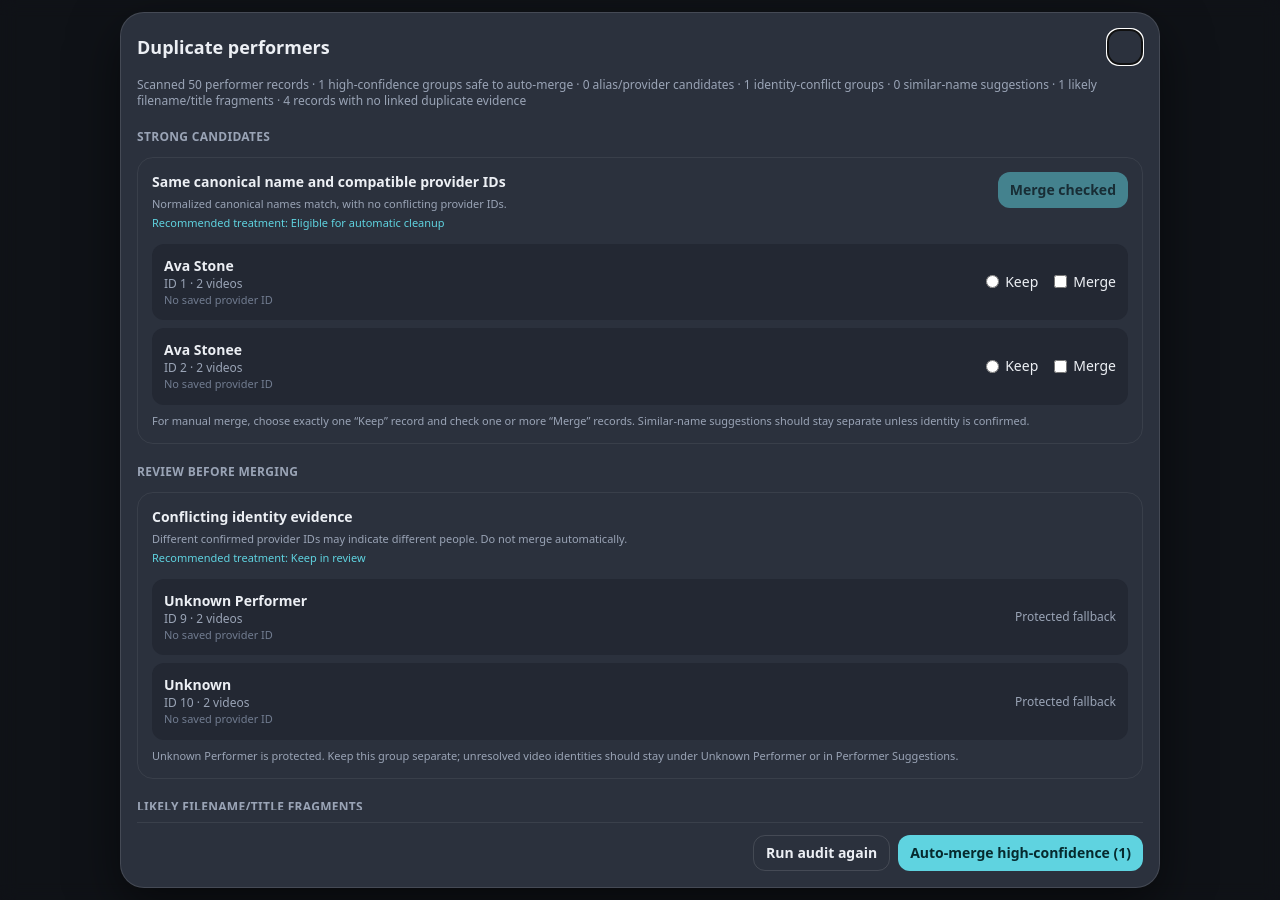
Test: Duplicate performers: merging one group › merges in one request, then reviews again so the group is gone
Expected: the text "Scanned 50 performer records" is shown, [137,77,1097,109]
Click the radio button with aria-label "Keep Ava Stone" at (993, 282), box [986,275,999,288]
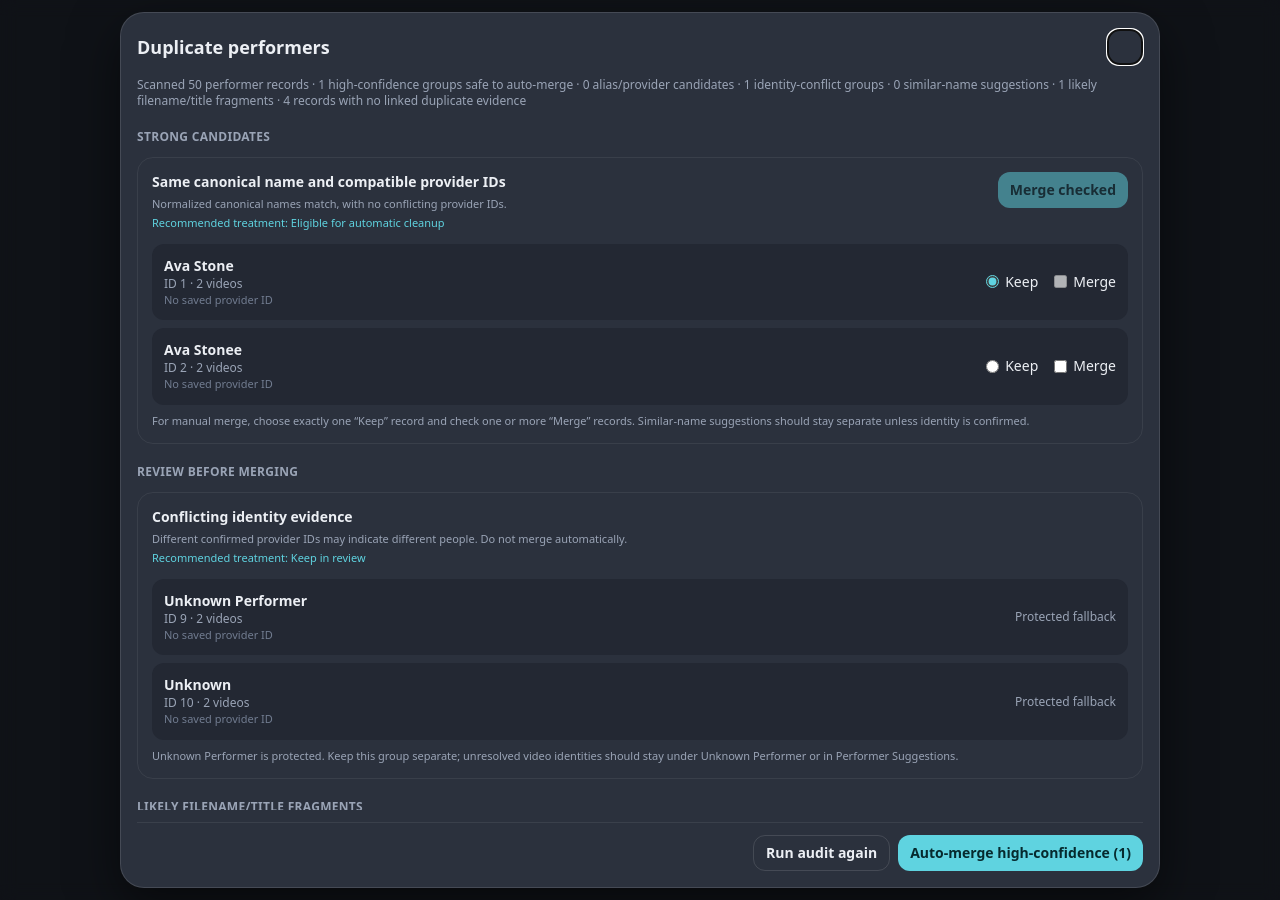
Click the checkbox named "Merge Ava Stonee" at (1061, 366), box [1054,360,1067,373]
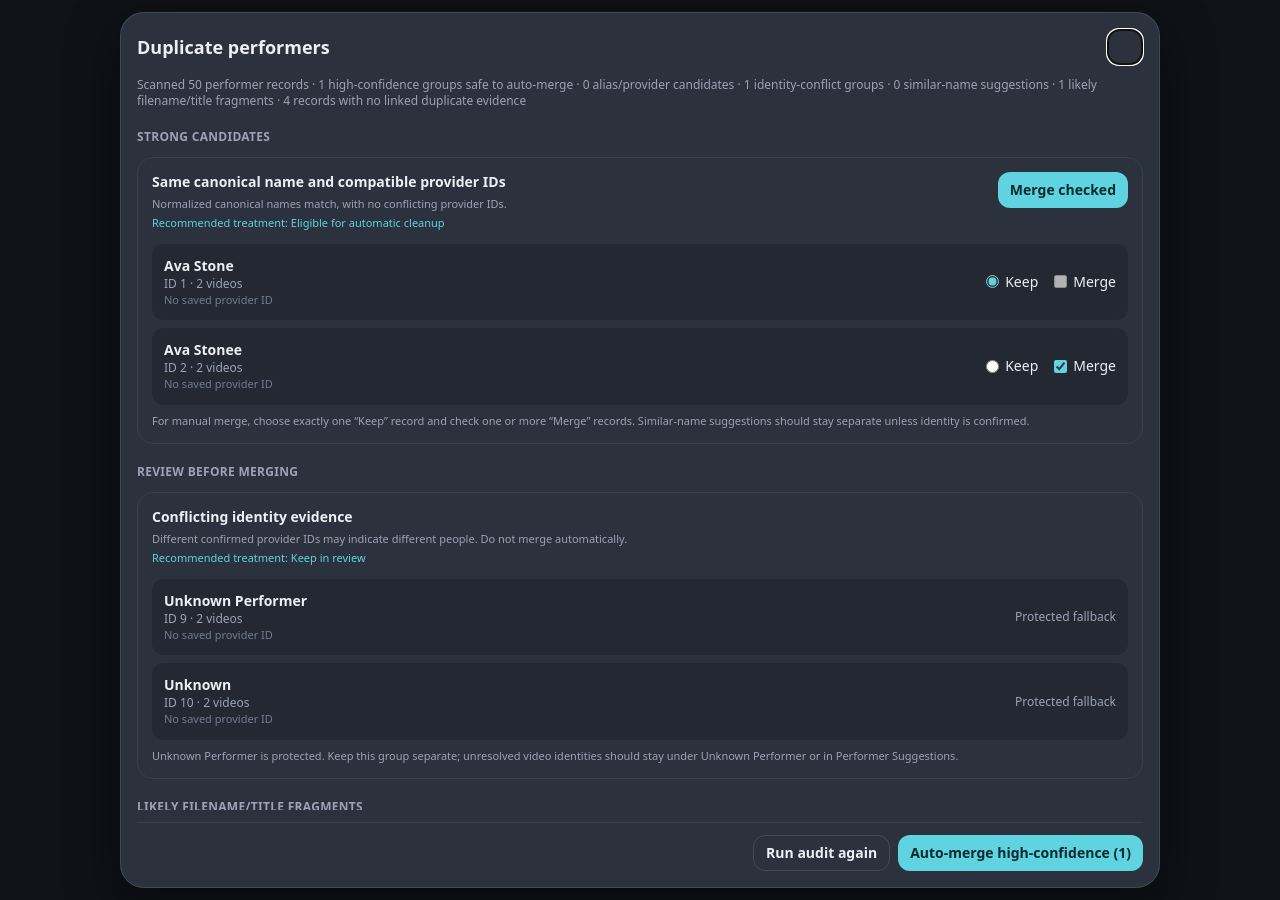
Click the button "Merge checked" at (1063, 190), box [998,172,1128,208]
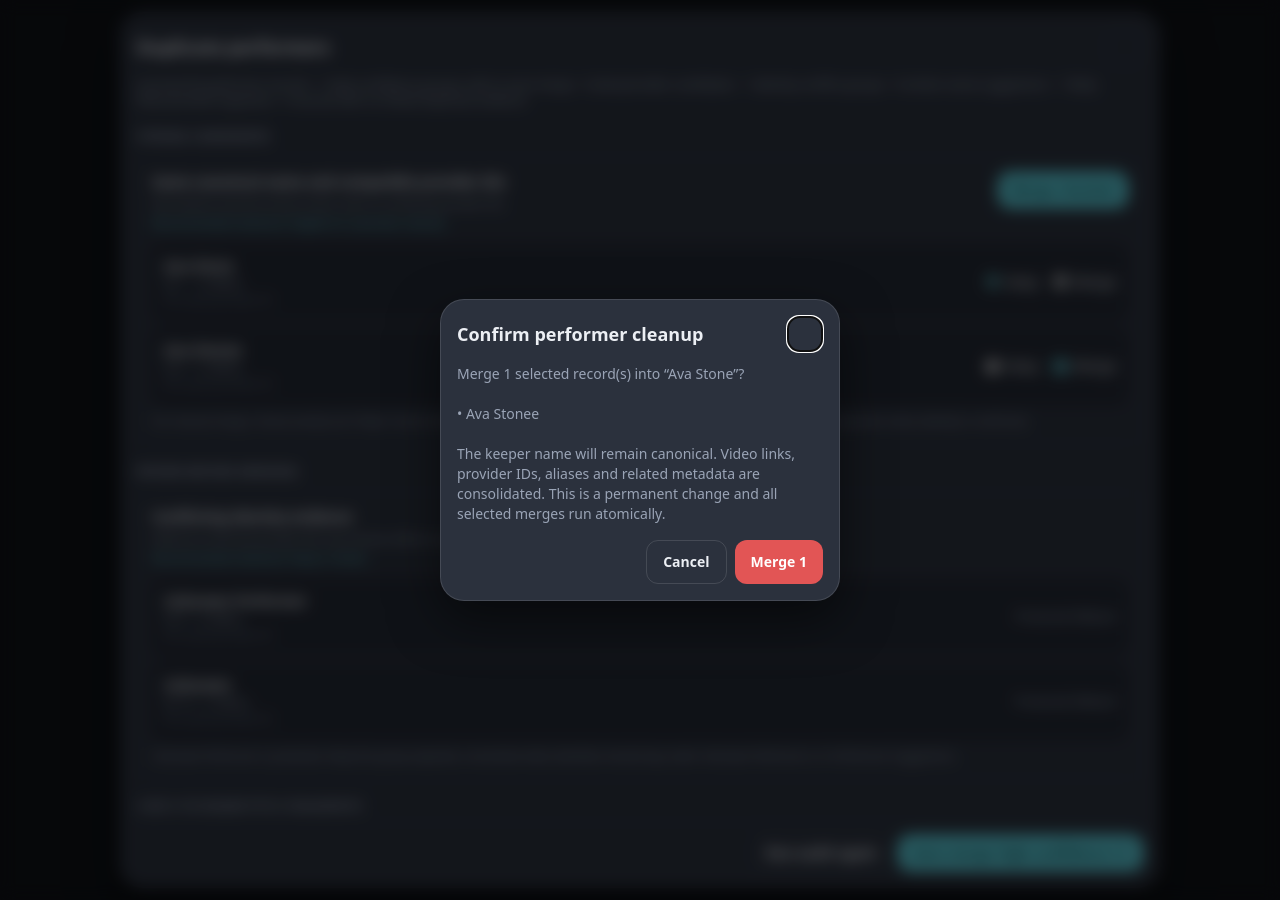
Click the button "Merge 1" at (779, 562), box [734,540,823,584]
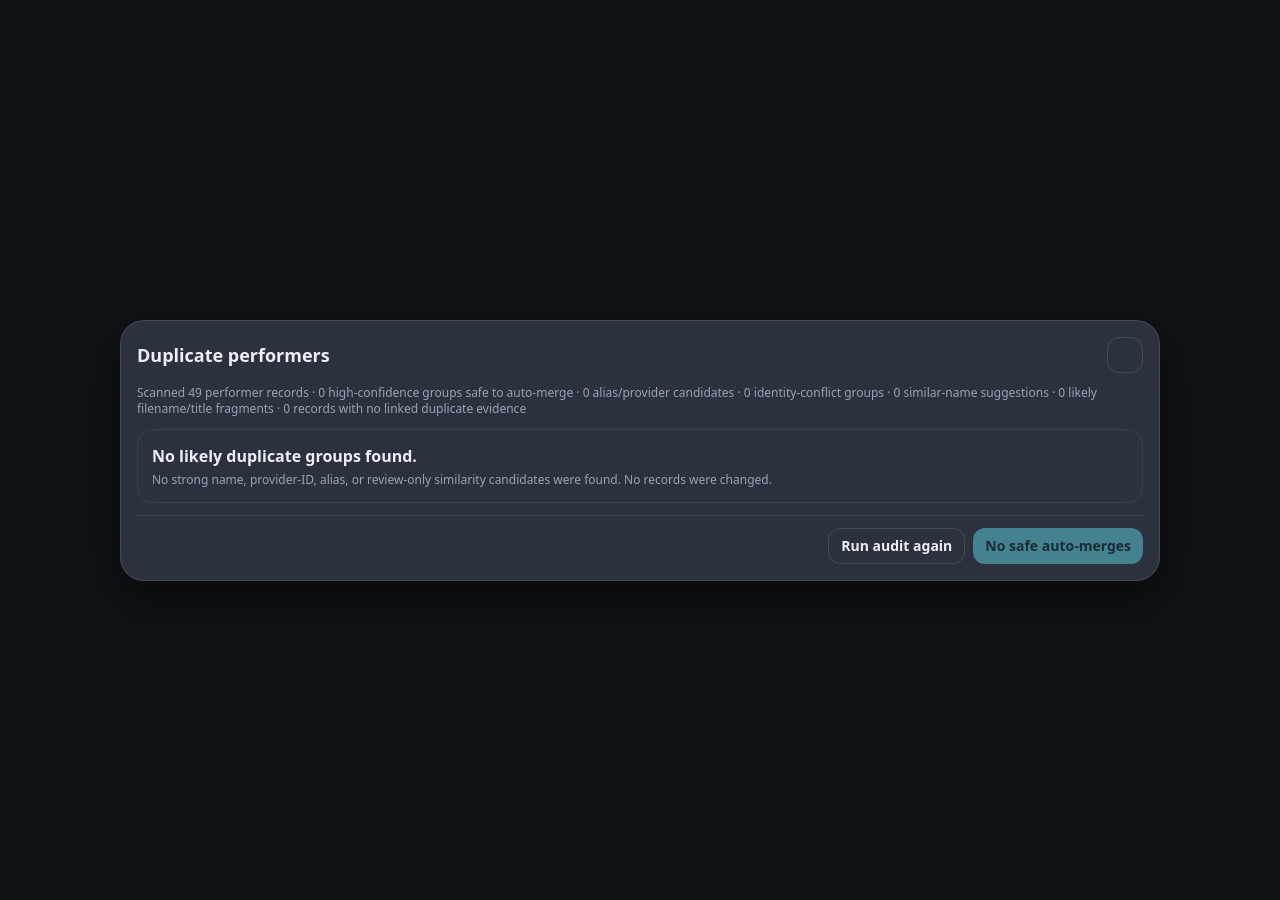
Now the text "No likely duplicate groups found." is shown, box [152,444,417,466]
